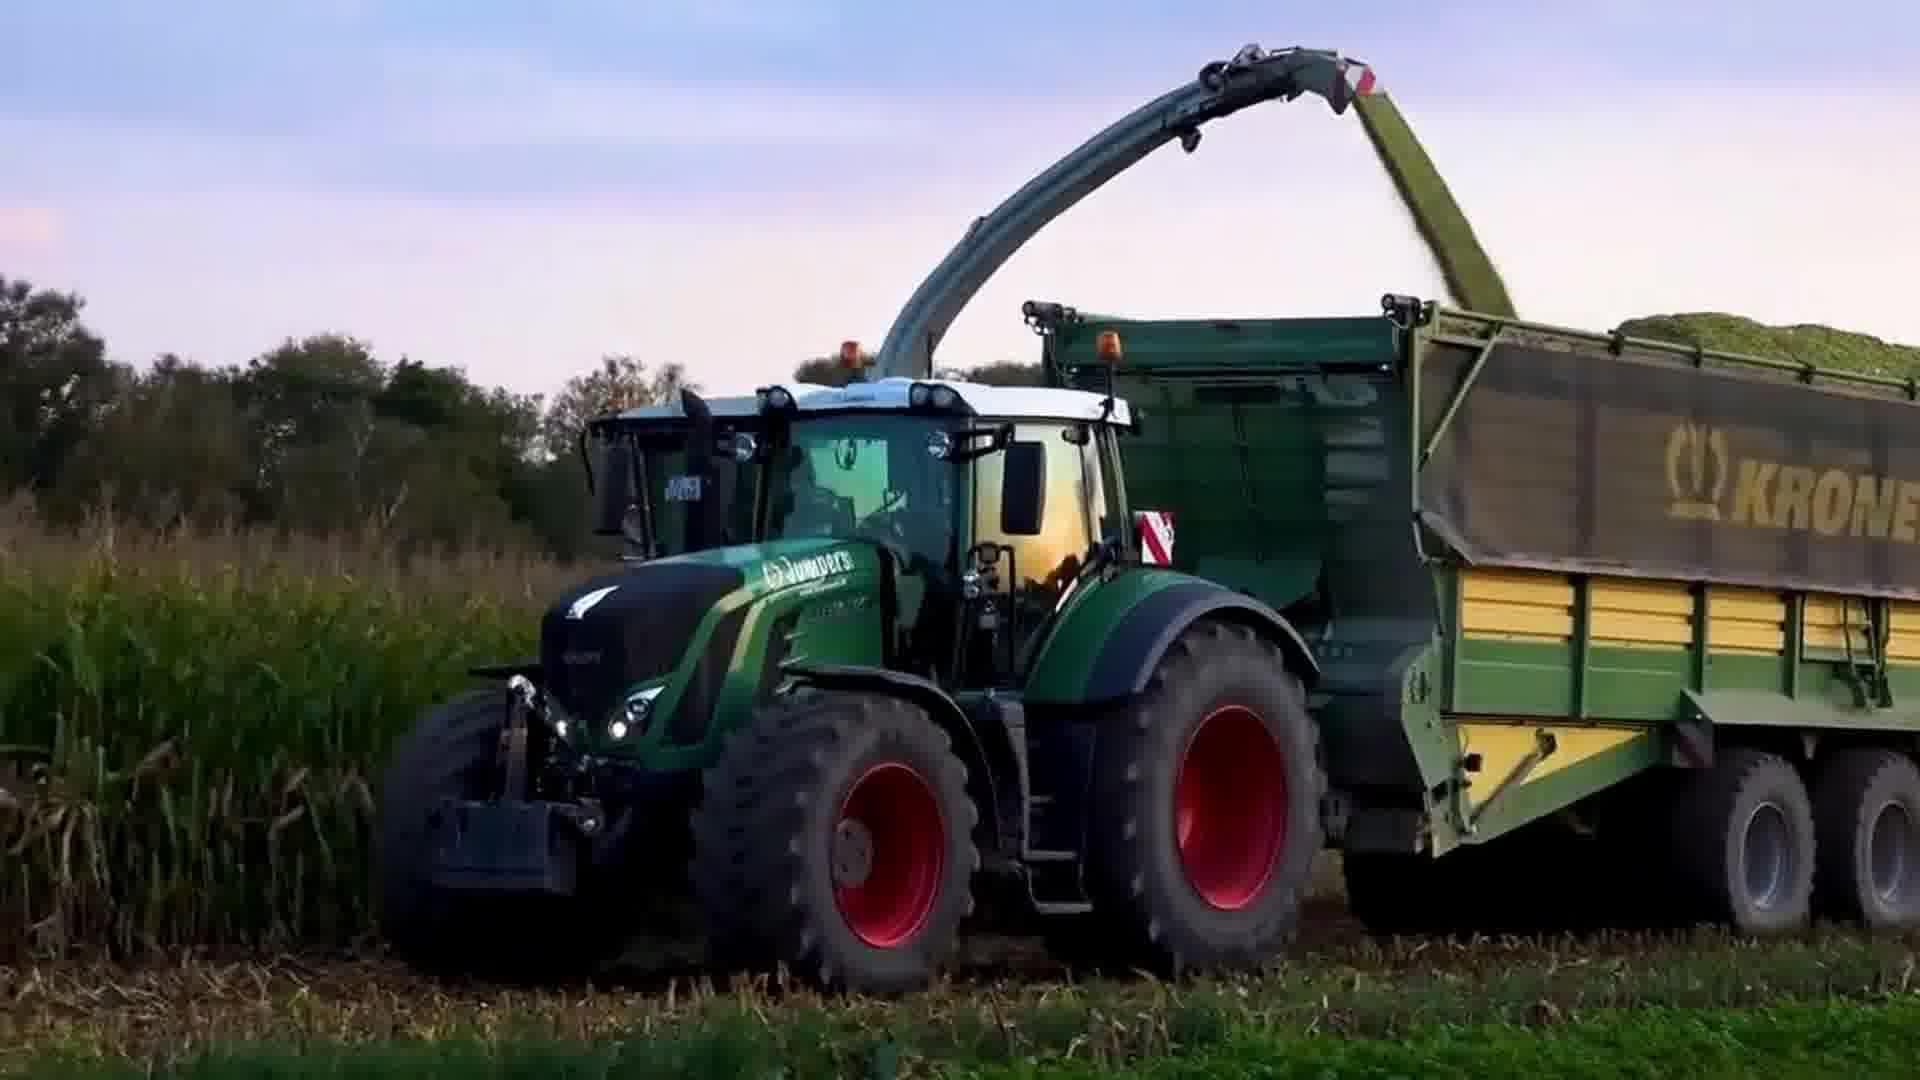combine harvester: (593, 37, 1386, 570)
tractor: (367, 331, 1346, 1010)
trailer: (1017, 283, 1920, 947)
